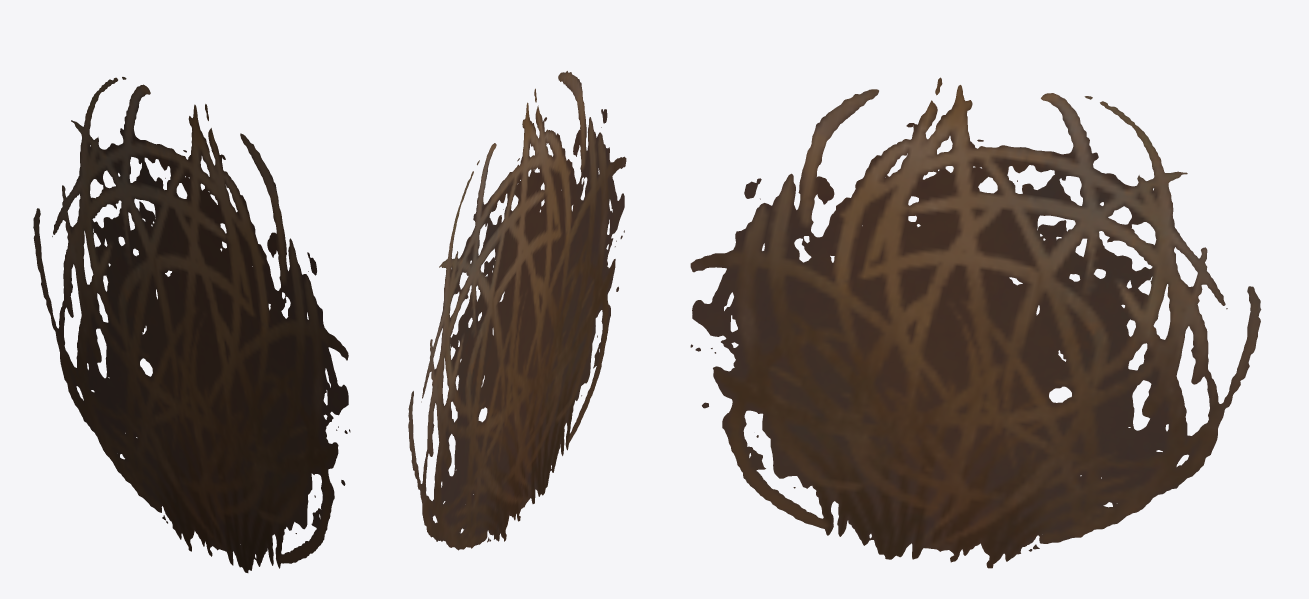
File: tumble1.fbx
3 views of the same model, side by side, from view 1: azimuth 30°, elevation 25°; view 2: azimuth 150°, elevation 25°; view 3: azimuth 270°, elevation 25° (orthographic). The views are drawn at different scales.
Visible parts, largest first — view 1: tumble1; view 2: tumble1; view 3: tumble1.
Part boxes in pixels (<box>): tumble1: <box>33,77,350,572</box>; tumble1: <box>408,71,626,550</box>; tumble1: <box>690,77,1261,568</box>.
Bounding box in the file's own units: 33.55 × 349 × 350.
